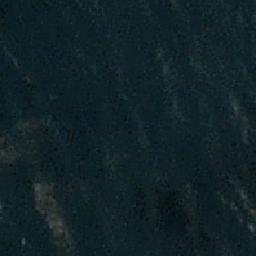debris: (32, 180, 64, 234)
